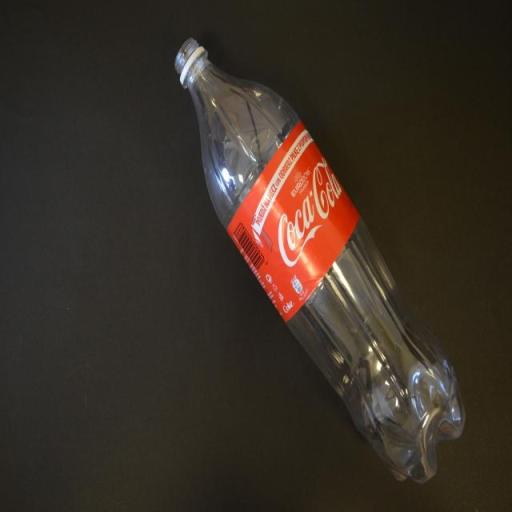plastic: (175, 41, 466, 487)
